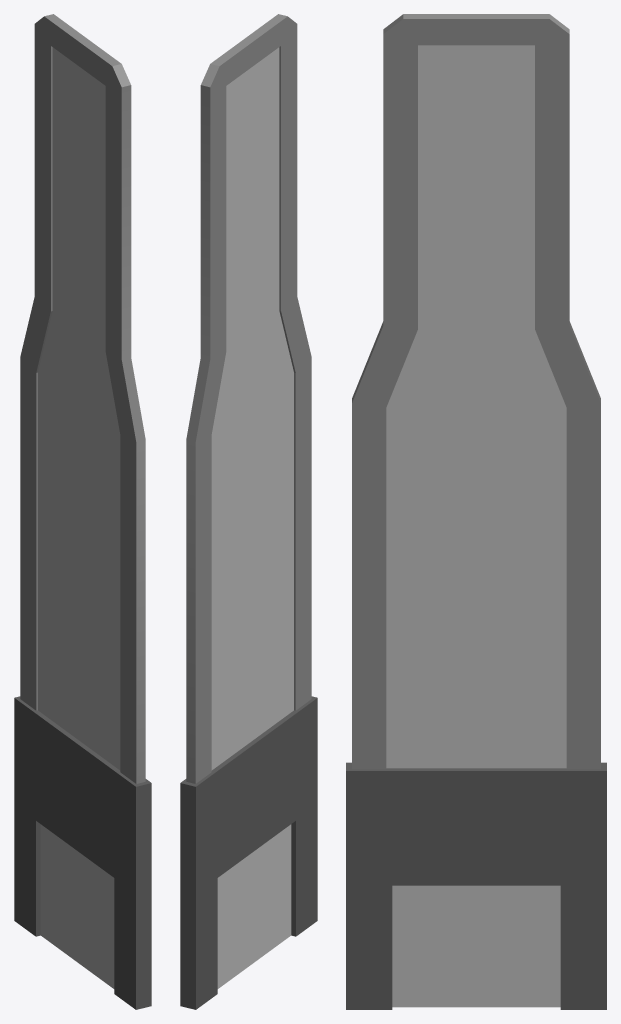
The model's file is Entrance_Scanner_01.FBX.
3 views of the same model, side by side, from view 1: azimuth 30°, elevation 25°; view 2: azimuth 150°, elevation 25°; view 3: azimuth 270°, elevation 25° (orthographic). The views are drawn at different scales.
Visible parts, largest first — view 1: Entrance_Scanner_01_LOD0; view 2: Entrance_Scanner_01_LOD0; view 3: Entrance_Scanner_01_LOD0.
Part boxes in pixels (x1,y1,x2,y2): Entrance_Scanner_01_LOD0: [14, 14, 151, 1009]; Entrance_Scanner_01_LOD0: [180, 14, 317, 1009]; Entrance_Scanner_01_LOD0: [346, 14, 606, 1009].
Size of what is drawn, in the model's own units: 1.44 by 80.86 by 19.33.
